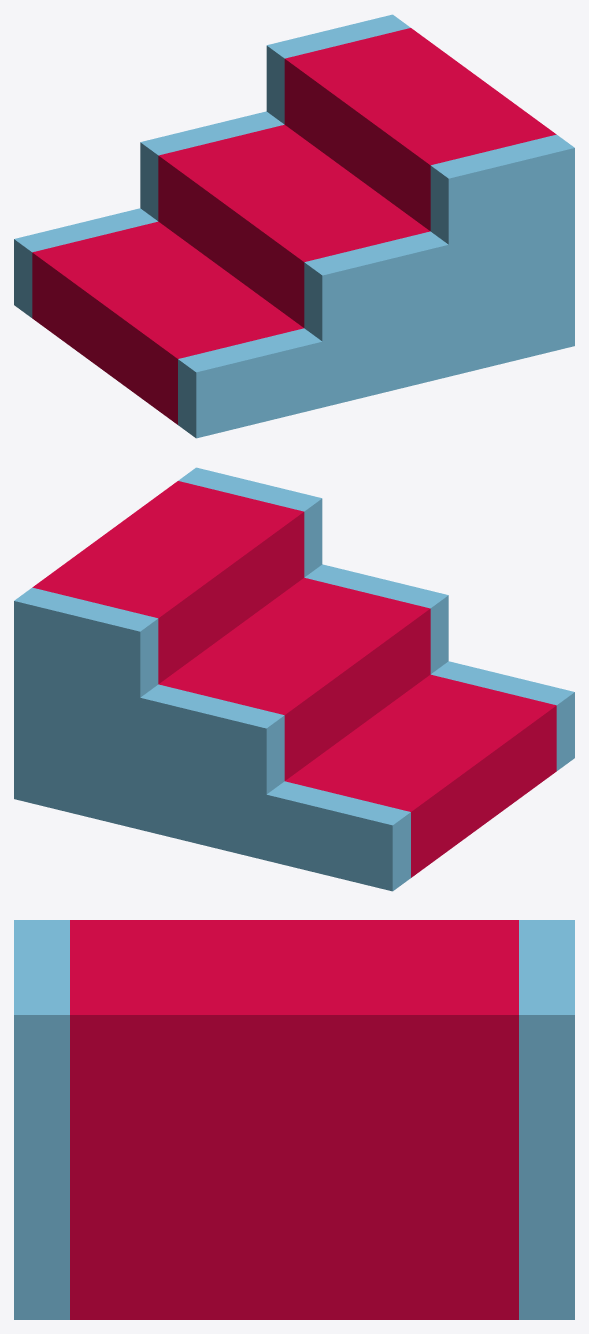
The model's file is 3 Stair.fbx.
3 views of the same model, one above another, from view 1: azimuth 30°, elevation 25°; view 2: azimuth 150°, elevation 25°; view 3: azimuth 270°, elevation 25° (orthographic). The views are drawn at different scales.
Visible parts, largest first — view 1: 3 Stair; view 2: 3 Stair; view 3: 3 Stair.
Boxes of the visible parts, x1,y1,x2,y2 form: 3 Stair: (14,14,574,438); 3 Stair: (14,467,574,891); 3 Stair: (14,920,574,1319).
Bounding box in the file's own units: 120 × 60 × 100.
